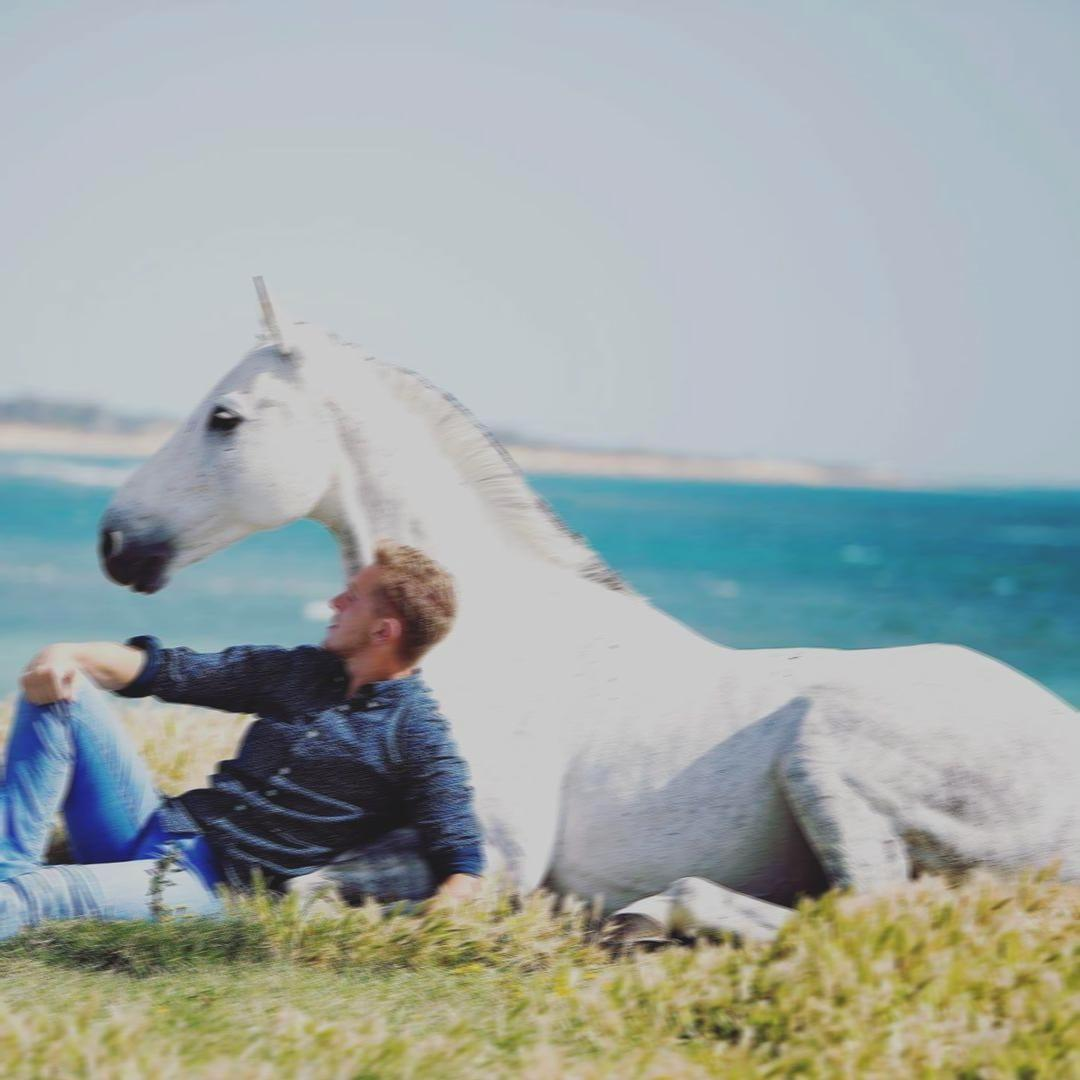horse: (95, 273, 1080, 962)
